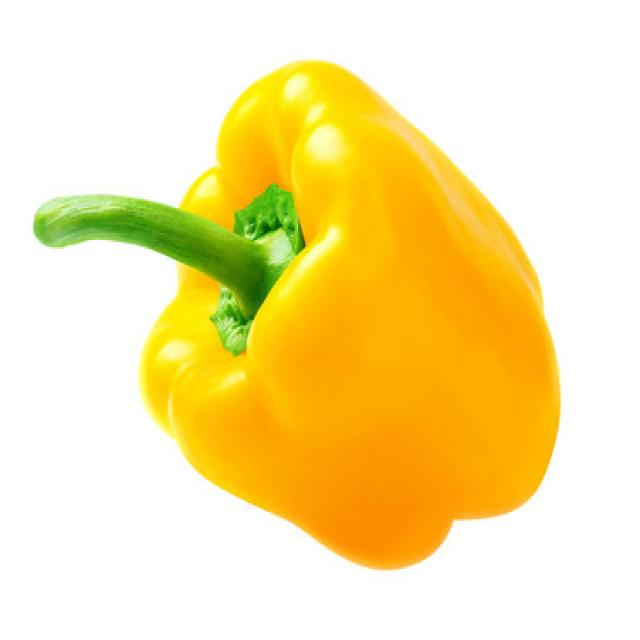Bell Pepper: (32, 57, 560, 571)
